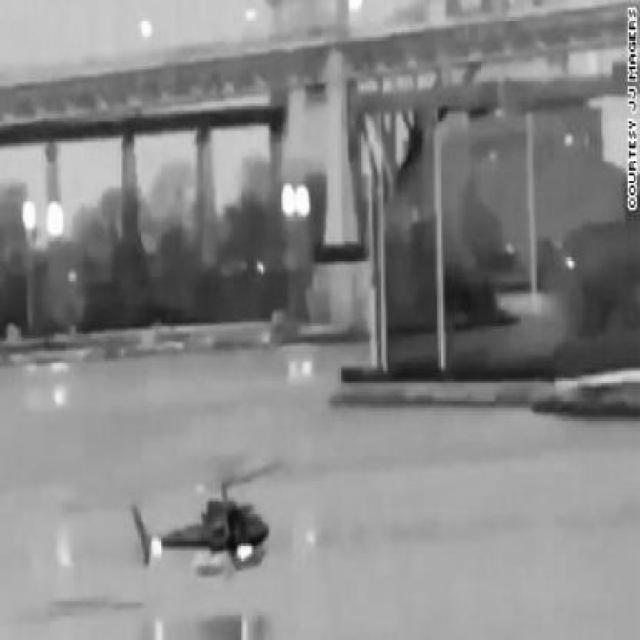helikopter: (119, 450, 278, 584)
